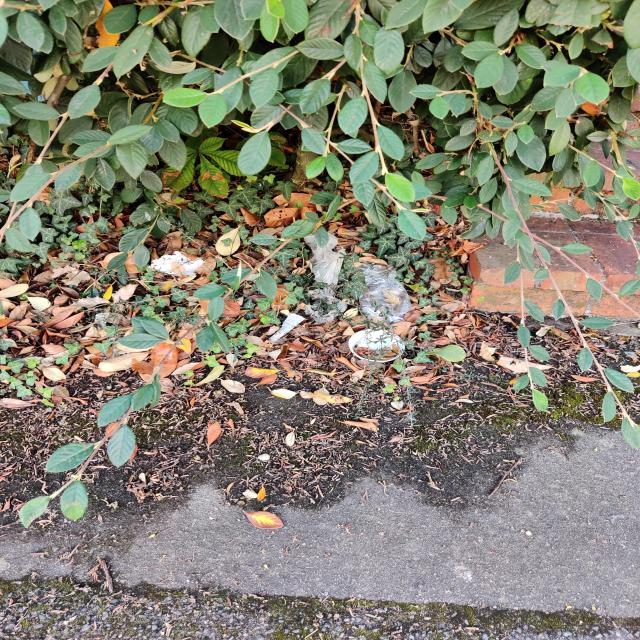litter: (351, 258, 419, 326), (342, 322, 412, 367), (300, 228, 349, 291), (145, 247, 211, 280)
